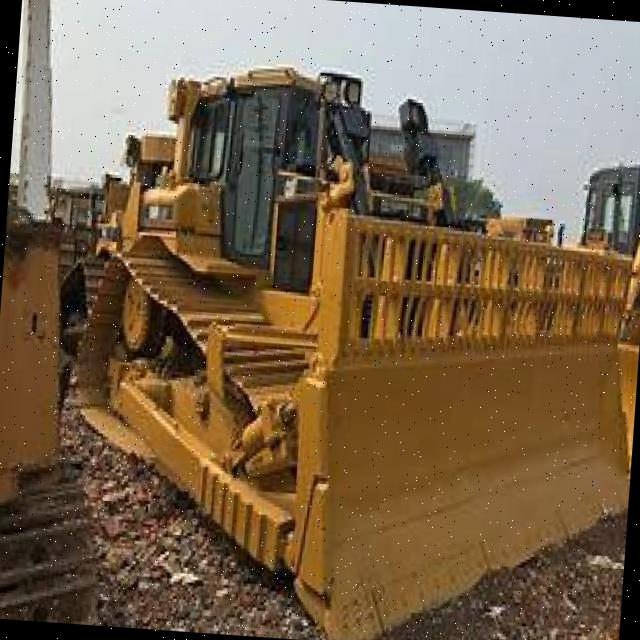Bulldozer: (40, 29, 640, 640)
